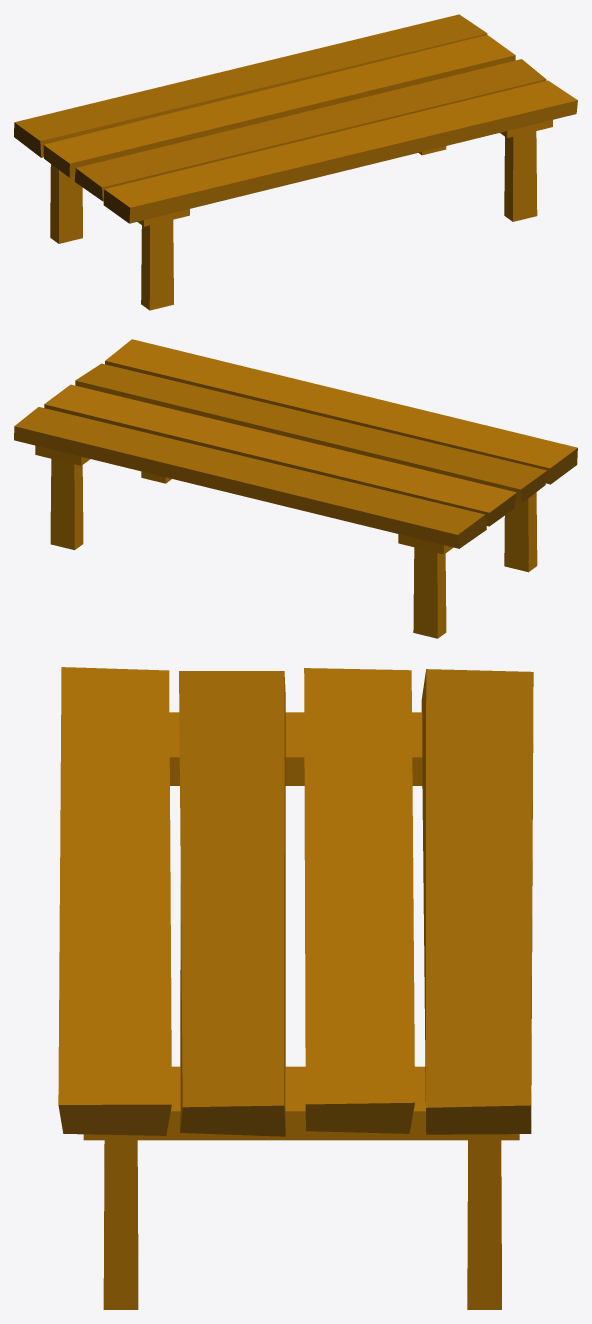
The model's file is table.glb.
3 renders of one model, top to bottom at view 1: azimuth 30°, elevation 25°; view 2: azimuth 150°, elevation 25°; view 3: azimuth 270°, elevation 25°, orthographic. The views are drawn at different scales.
Parts seen in each view (by area): view 1: Cube, Cube.004, Cube.003, Cube.001, Cube.002, Cube.006; view 2: Cube.003, Cube, Cube.004, Cube.001, Cube.002, Cube.006; view 3: Cube, Cube.003, Cube.004, Cube.001, Cube.006, Cube.002.
Boxes of the visible parts, <box> form: Cube: <box>103,80,577,223</box>; Cube.004: <box>43,35,515,177</box>; Cube.003: <box>14,14,487,157</box>; Cube.001: <box>74,59,546,201</box>; Cube.002: <box>50,164,189,310</box>; Cube.006: <box>418,120,552,221</box>; Cube.003: <box>14,407,486,548</box>; Cube: <box>105,339,577,484</box>; Cube.004: <box>44,384,516,526</box>; Cube.001: <box>75,363,547,503</box>; Cube.002: <box>398,492,537,638</box>; Cube.006: <box>35,445,171,550</box>; Cube: <box>58,667,171,1135</box>; Cube.003: <box>421,669,533,1134</box>; Cube.004: <box>304,668,414,1133</box>; Cube.001: <box>179,671,285,1136</box>; Cube.006: <box>83,1066,519,1309</box>; Cube.002: <box>169,712,422,785</box>.
Size of the model in its own units: 0.9611 by 0.2414 by 0.4412.
